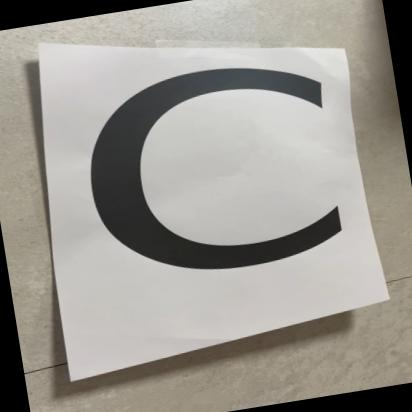seat: (56, 38, 381, 340)
